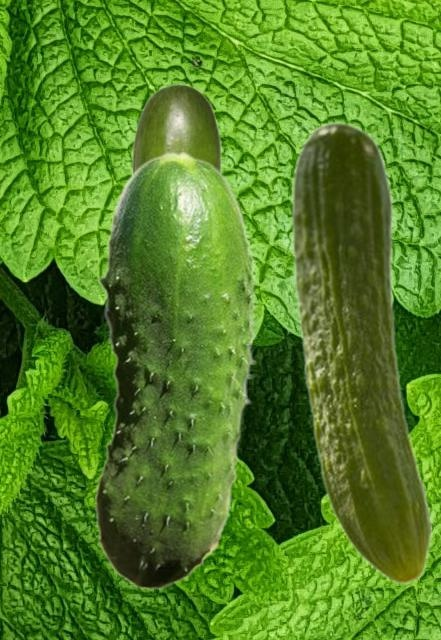cucumber: (94, 150, 257, 589), (290, 120, 432, 585), (129, 83, 221, 174)
